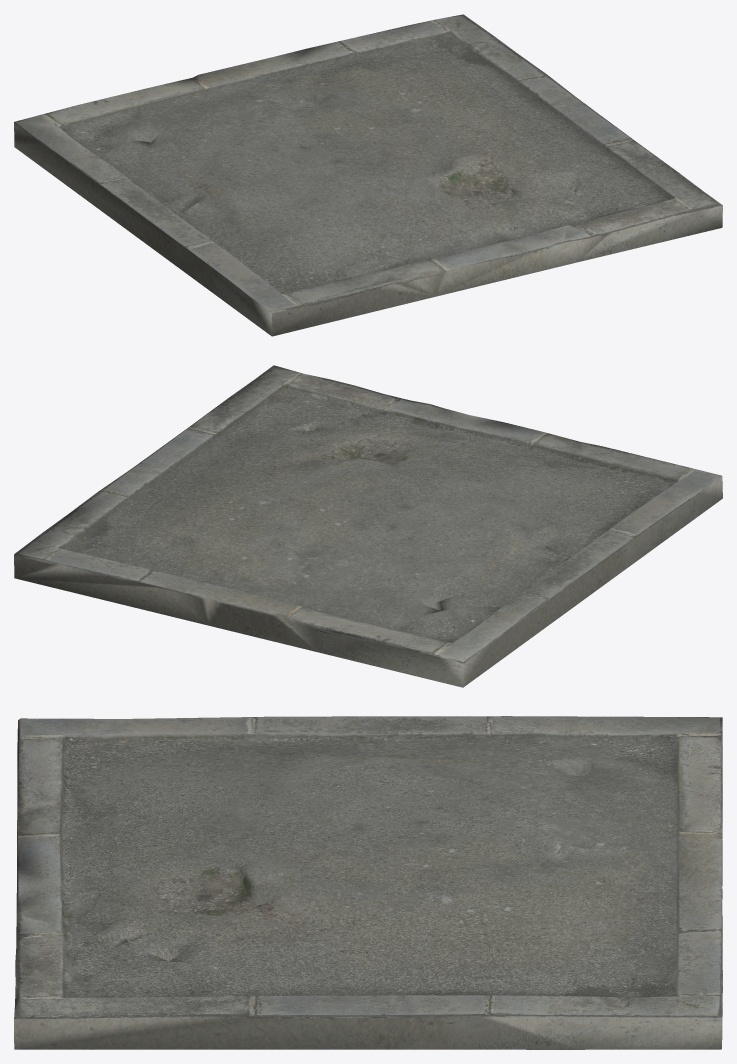
Rendered from PX_Tree_Pit_02_LOD5.fbx.
3 renders of one model, top to bottom at view 1: azimuth 30°, elevation 25°; view 2: azimuth 150°, elevation 25°; view 3: azimuth 270°, elevation 25°, orthographic. The views are drawn at different scales.
Parts seen in each view (by area): view 1: PX_Tree_Pit_02_LOD5; view 2: PX_Tree_Pit_02_LOD5; view 3: PX_Tree_Pit_02_LOD5.
Boxes of the visible parts, box(x1,y1,x2,y2) form: PX_Tree_Pit_02_LOD5: box(14, 14, 722, 336); PX_Tree_Pit_02_LOD5: box(14, 365, 722, 687); PX_Tree_Pit_02_LOD5: box(14, 716, 722, 1049).
Bounding box in the file's own units: 99.87 × 8.31 × 99.93.
